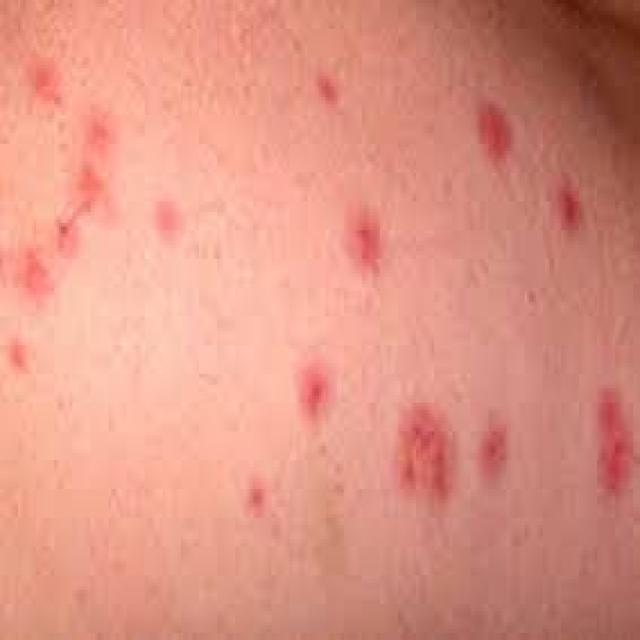tahta-kurusu: (372, 407, 459, 541), (583, 373, 640, 568), (468, 403, 533, 510), (463, 83, 515, 196), (294, 325, 341, 450), (330, 210, 390, 292), (536, 157, 585, 242), (22, 249, 74, 324), (149, 183, 197, 251), (65, 172, 116, 235), (70, 102, 105, 150), (35, 59, 57, 110)
